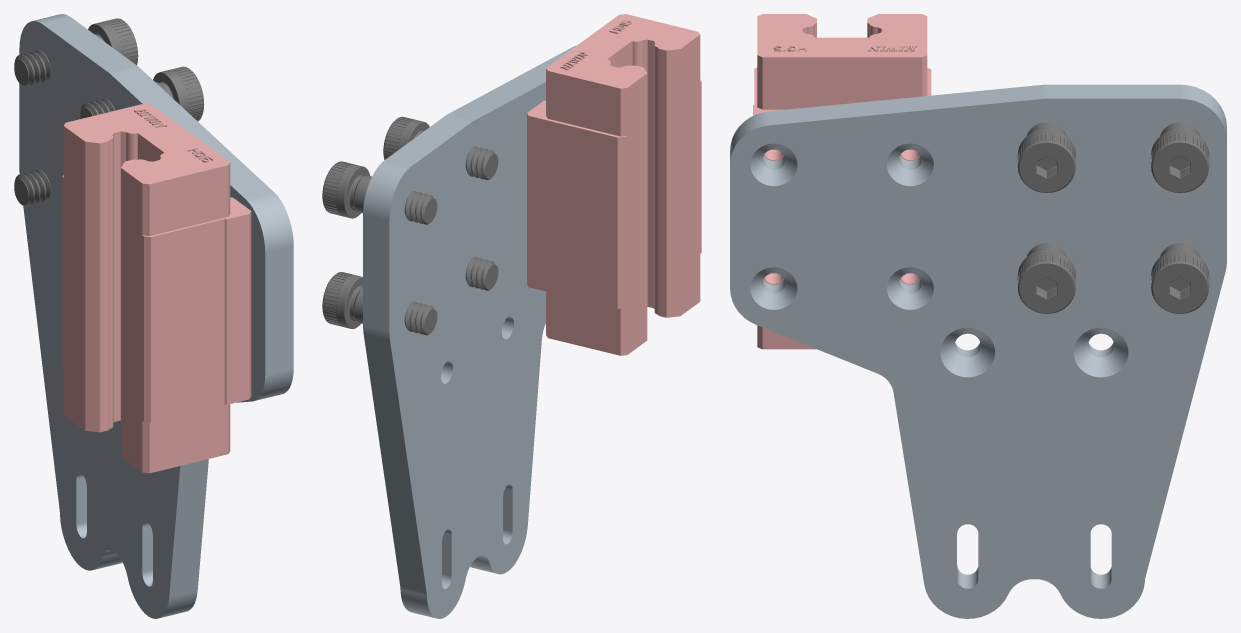
3 renders of one model, left to right at view 1: azimuth 30°, elevation 25°; view 2: azimuth 150°, elevation 25°; view 3: azimuth 270°, elevation 25°, orthographic. The views are drawn at different scales.
Visible parts, largest first — view 1: Linear Rail Carriage, Hook Mounting Plate, 91259A574_Alloy Steel Shoulder Screw (×3); view 2: Hook Mounting Plate, Linear Rail Carriage, 91259A574_Alloy Steel Shoulder Screw (×4); view 3: Hook Mounting Plate, Linear Rail Carriage, 91259A574_Alloy Steel Shoulder Screw (×4).
Boxes of the visible parts, <box> form: Linear Rail Carriage: <box>62,103,251,473</box>; Hook Mounting Plate: <box>19,14,293,618</box>; 91259A574_Alloy Steel Shoulder Screw (×3): <box>14,18,204,205</box>; Hook Mounting Plate: <box>363,46,575,618</box>; Linear Rail Carriage: <box>527,14,701,355</box>; 91259A574_Alloy Steel Shoulder Screw (×4): <box>322,116,498,335</box>; Hook Mounting Plate: <box>730,84,1226,618</box>; Linear Rail Carriage: <box>753,14,931,349</box>; 91259A574_Alloy Steel Shoulder Screw (×4): <box>1017,122,1209,313</box>.
Bounding box in the file's own units: 0.042 × 0.1134 × 0.0946.
